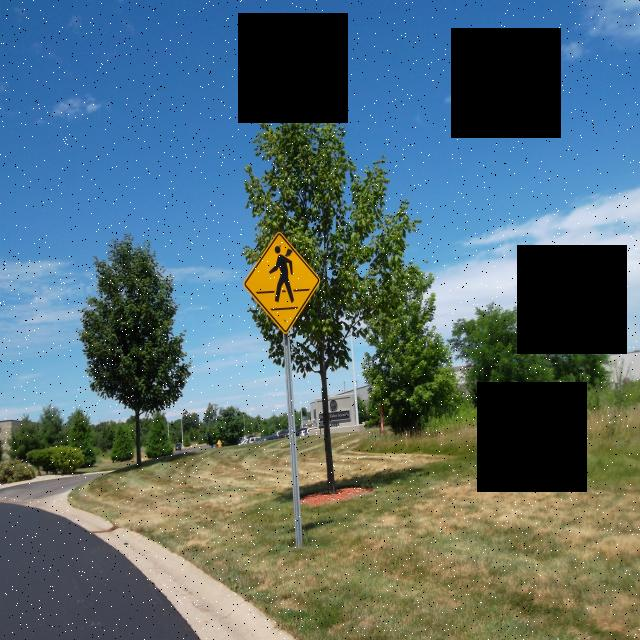warning: (244, 229, 322, 334)
